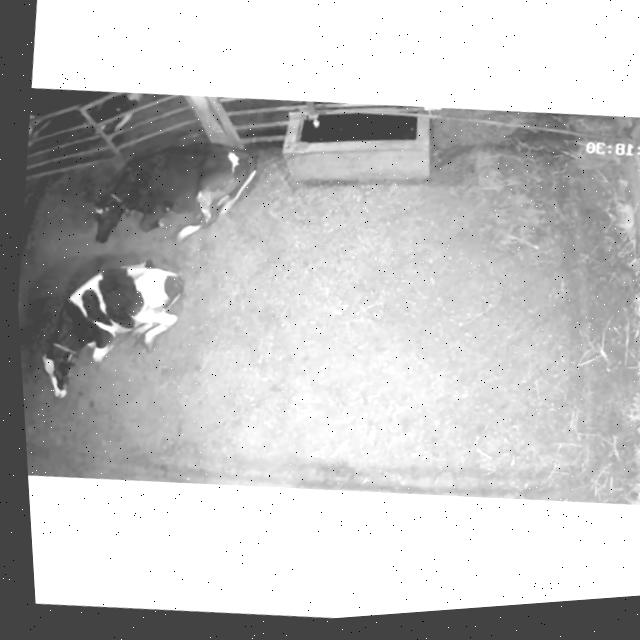lay: (64, 104, 283, 272), (16, 234, 204, 429)
